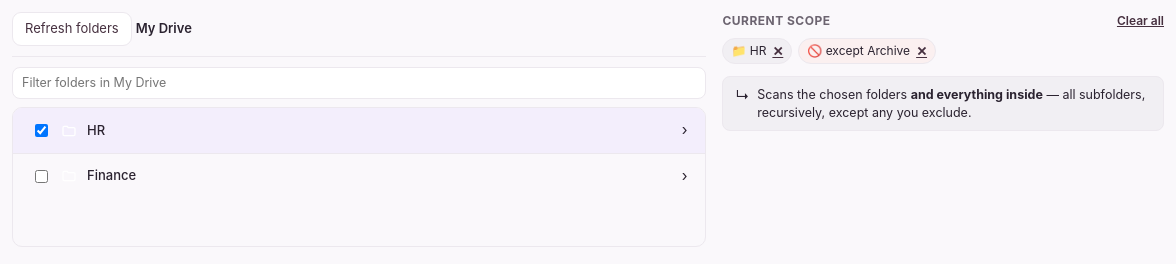
Scenario: Clear all › clears the carve-outs with the inclusions
The width and height of the screenshot is (1176, 264).
Check: the element named "Current scope" shows "except Archive", box left=722, top=12, right=1164, bottom=145
Click the button "Clear all".
click(1140, 21)  # box left=1117, top=12, right=1164, bottom=30
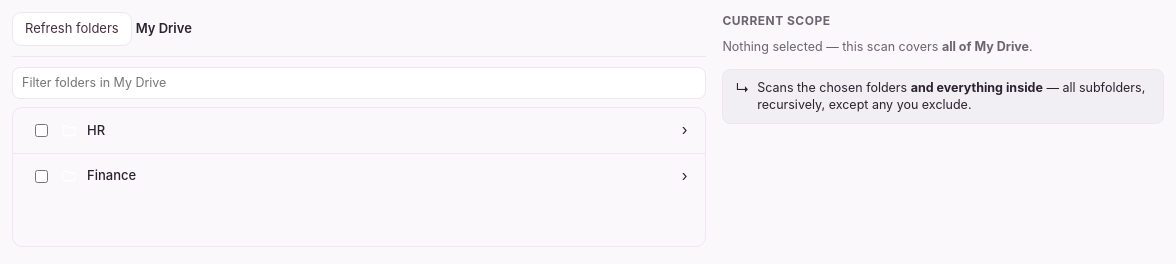
Check: the element named "Current scope" shows "Nothing selected", box left=722, top=39, right=867, bottom=54
